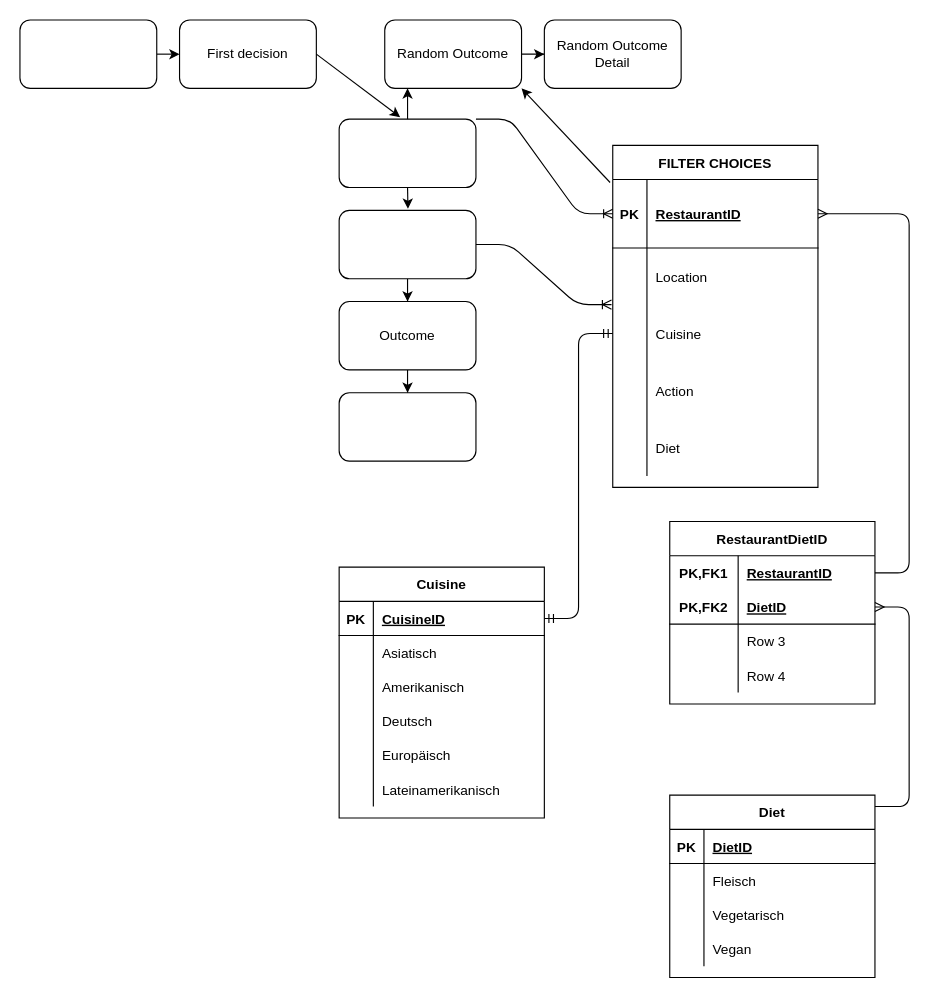
This 938x998 diagram has some shape labels left out. The shapes that lost their labels are listed below. From the top down, each one's centre as x and y in pixels, then its label:
At pixel 88 53: "Splash Screen".
At pixel 407 153: "1-click-decision Filter decision".
At pixel 407 244: "Filter".
At pixel 407 426: "Outcome Detail".
